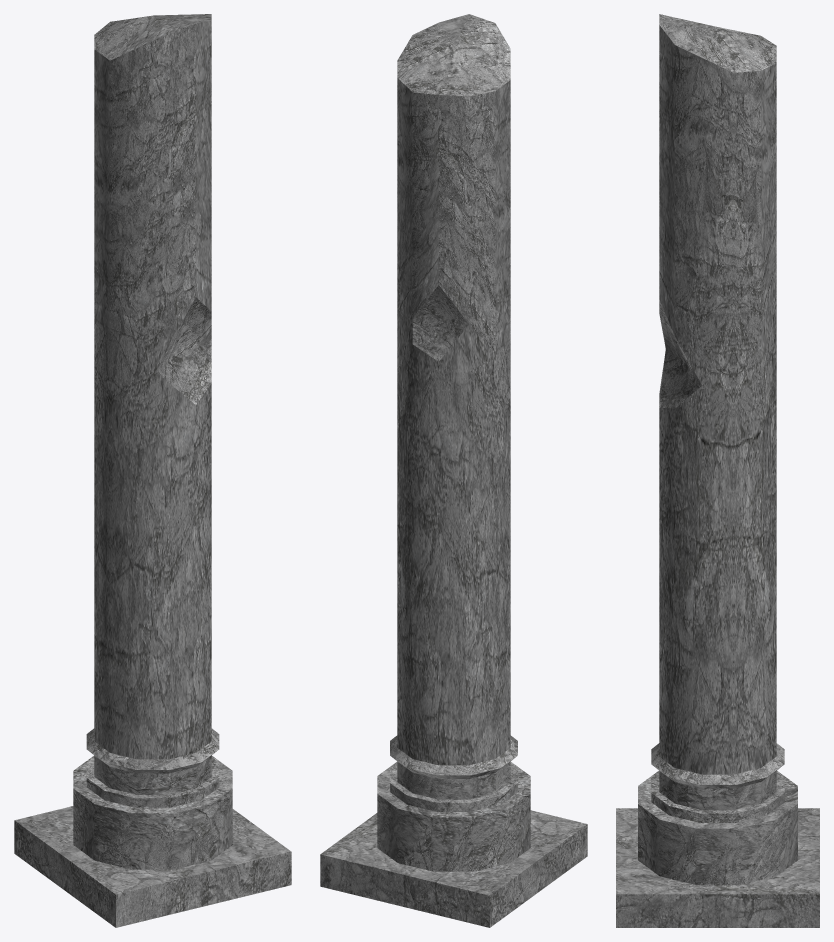
Rendered from materials_3_pillar_2.fbx.
3 renders of one model, left to right at view 1: azimuth 30°, elevation 25°; view 2: azimuth 150°, elevation 25°; view 3: azimuth 270°, elevation 25°, orthographic. The views are drawn at different scales.
Parts seen in each view (by area): view 1: materials_3_pillar_2; view 2: materials_3_pillar_2; view 3: materials_3_pillar_2.
Boxes of the visible parts, x1,y1,x2,y2 form: materials_3_pillar_2: (14,14,291,927); materials_3_pillar_2: (320,14,587,927); materials_3_pillar_2: (616,14,819,927).
Bounding box in the file's own units: 48.61 × 228 × 48.61.
